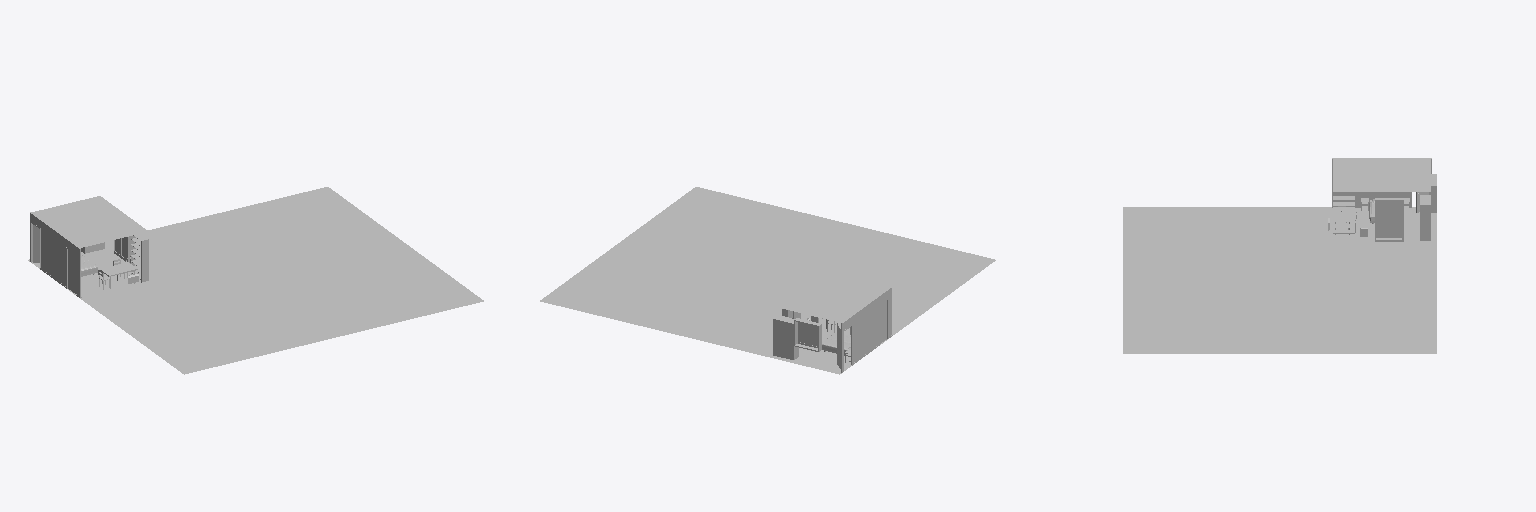
File: bedroom0.obj
3 views of the same model, side by side, from view 1: azimuth 30°, elevation 25°; view 2: azimuth 150°, elevation 25°; view 3: azimuth 270°, elevation 25° (orthographic).
Parts seen in each view (by area): view 1: ground_1, room_16_34, room_16_33, wall_10_30; view 2: ground_1, room_16_34, Corps_61, room_16_33, wall_10_30; view 3: ground_1, room_16_34, room_16_33.
Part boxes in pixels (x1,y1,x2,y2): ground_1: (28, 187, 483, 374); room_16_34: (32, 196, 148, 247); room_16_33: (32, 249, 140, 296); wall_10_30: (51, 228, 62, 283); ground_1: (540, 187, 995, 374); room_16_34: (773, 271, 889, 322); Corps_61: (773, 315, 798, 359); room_16_33: (785, 321, 882, 371); wall_10_30: (863, 299, 875, 355); ground_1: (1123, 207, 1436, 353); room_16_34: (1333, 159, 1430, 191); room_16_33: (1333, 208, 1419, 240).
Bounding box in the file's own units: 1600 × 250 × 1445.